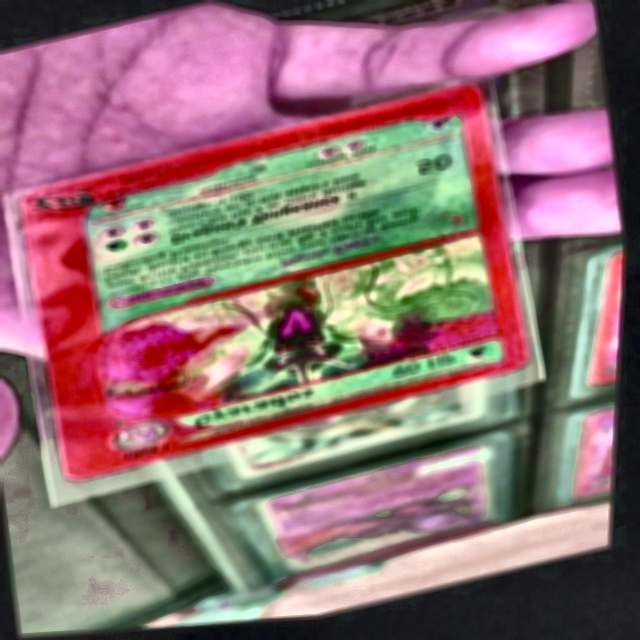card: (21, 89, 533, 480), (257, 449, 493, 574), (233, 385, 482, 477), (579, 415, 622, 504)
